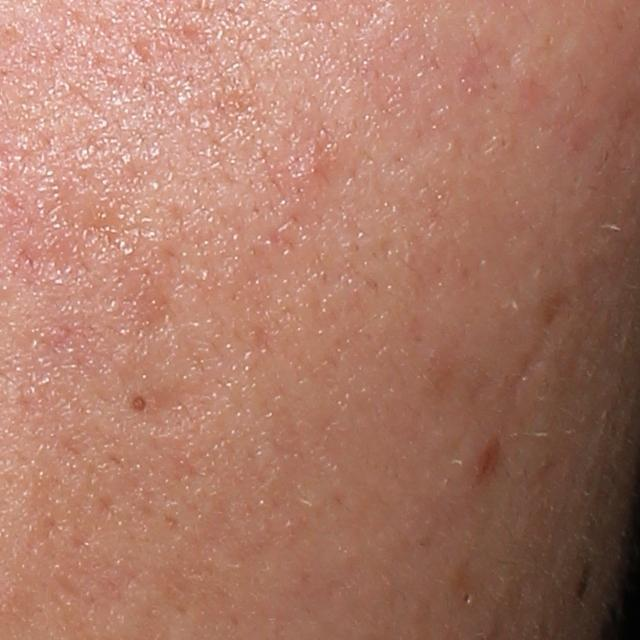comedo: (123, 387, 152, 417)
nevus: (571, 557, 594, 599)
papule: (473, 435, 504, 484)
